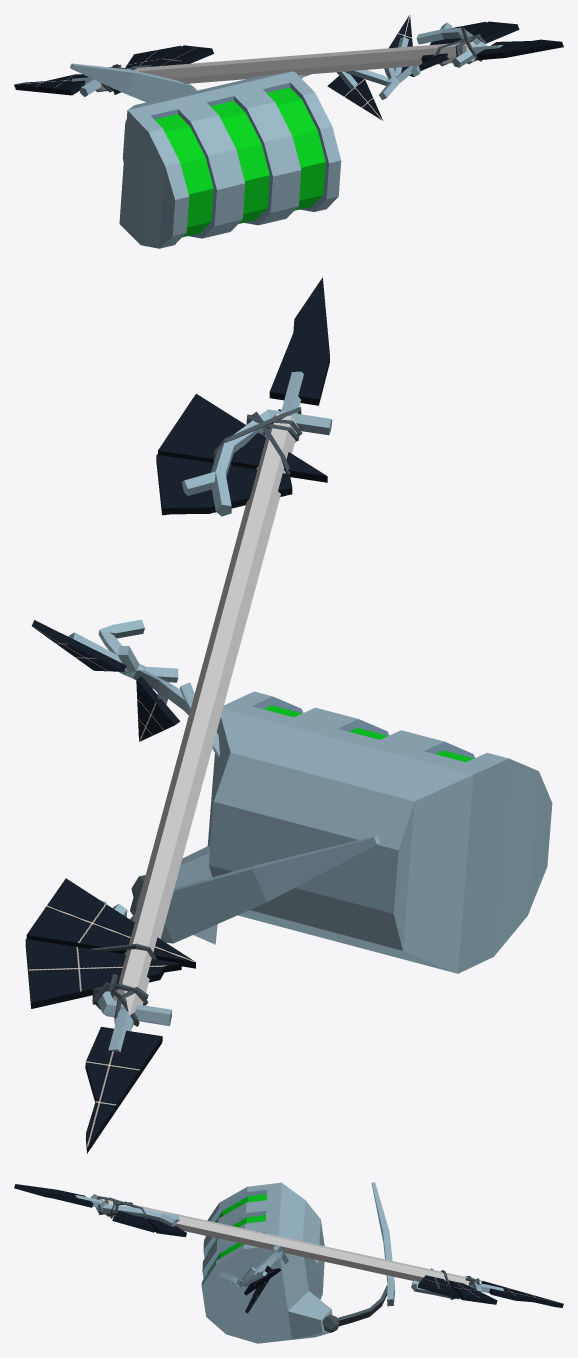
Rendered from Weapon Pile.fbx.
The picture shows the model from 3 angles, top to bottom: view 1: azimuth 30°, elevation 25°; view 2: azimuth 150°, elevation 25°; view 3: azimuth 270°, elevation 25°; orthographic projection. The views are drawn at different scales.
Visible parts, largest first — view 1: Weapon And Backpack Pile; view 2: Weapon And Backpack Pile; view 3: Weapon And Backpack Pile.
Part boxes in pixels (x1,y1,x2,y2): Weapon And Backpack Pile: (14, 15, 563, 248); Weapon And Backpack Pile: (25, 277, 552, 1153); Weapon And Backpack Pile: (14, 1182, 563, 1343).
Size of the model in its own units: 622 by 1316 by 529.
